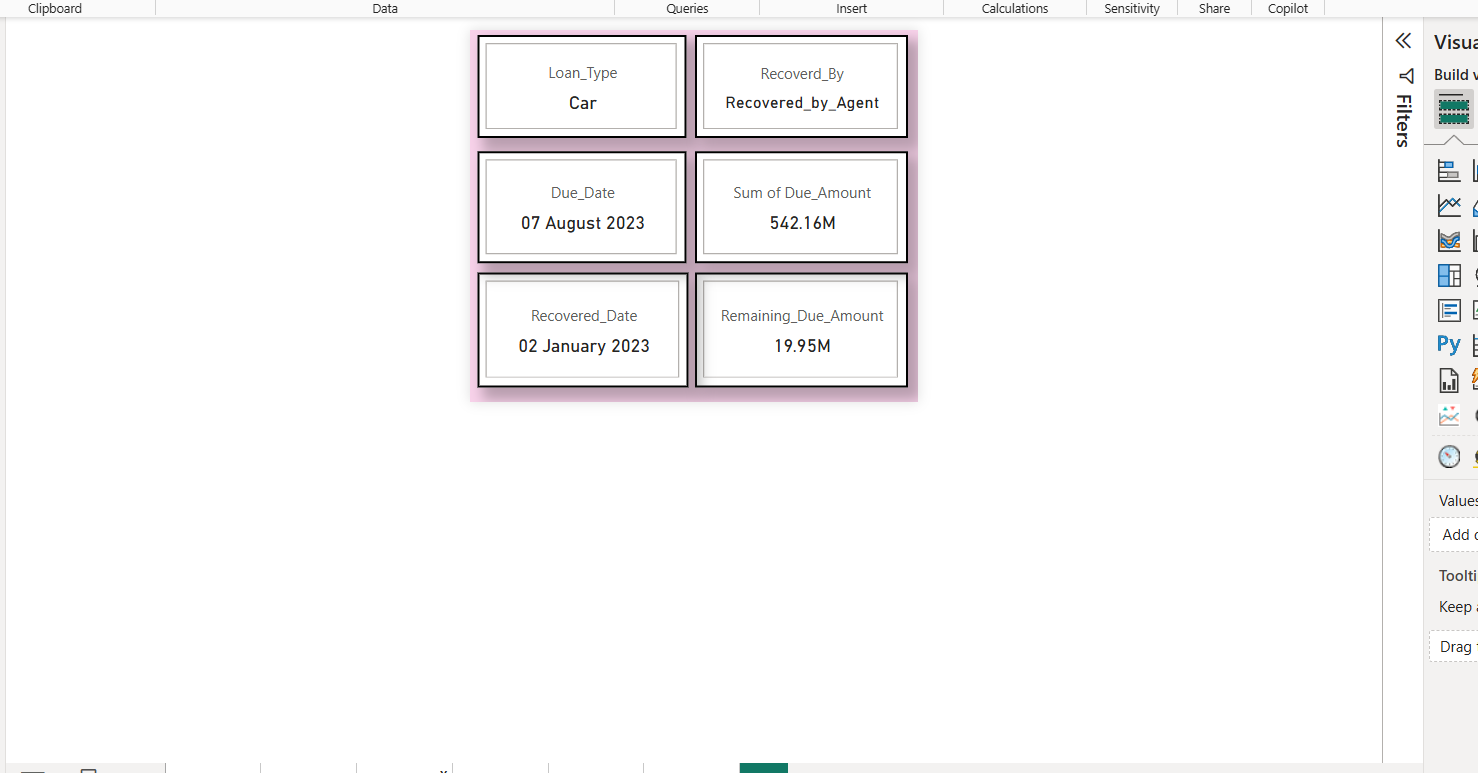

What the dashboard file says about the page in this screenshot:
{"tool":"powerbi","page":{"name":"tooltip","canvas":[358,298],"ordinal":2},"visuals":[{"type":"cardVisual","fields":{"Data":["Sum(Bank_Loan_Recovery_Data_2000_AI_Enhanced.Remaining_Due_Amount)"]},"box":[180,194,170,92],"z":1000},{"type":"cardVisual","fields":{"Data":["Min(Bank_Loan_Recovery_Data_2000_AI_Enhanced.Loan_Type)"]},"box":[6,4,167,83],"z":2000},{"type":"cardVisual","fields":{"Data":["Min(Bank_Loan_Recovery_Data_2000_AI_Enhanced.Recovered_Date)"]},"box":[6,194,169,92],"z":3000},{"type":"cardVisual","fields":{"Data":["Min(Bank_Loan_Recovery_Data_2000_AI_Enhanced.Due_Date)"]},"box":[6,97,167,90],"z":4000},{"type":"cardVisual","fields":{"Data":["Min(Bank_Loan_Recovery_Data_2000_AI_Enhanced.Recoverd_By)"]},"box":[180,4,170,83],"z":5000},{"type":"cardVisual","fields":{"Data":["Sum(Bank_Loan_Recovery_Data_2000_AI_Enhanced.Due_Amount)"]},"box":[180,97,170,90],"z":6000}]}

Visuals, with their boxes on the page's 358x298 design canvas (x1, y1, x2, y2). These are canvas units, not pixel positions in the 1478x773 screenshot, which may show the page scaled, cropped or inside an application window:
cardVisual - Sum(Bank_Loan_Recovery_Data_2000_AI_Enhanced.Remaining_Due_Amount): (180, 194, 350, 286)
cardVisual - Min(Bank_Loan_Recovery_Data_2000_AI_Enhanced.Loan_Type): (6, 4, 173, 87)
cardVisual - Min(Bank_Loan_Recovery_Data_2000_AI_Enhanced.Recovered_Date): (6, 194, 175, 286)
cardVisual - Min(Bank_Loan_Recovery_Data_2000_AI_Enhanced.Due_Date): (6, 97, 173, 187)
cardVisual - Min(Bank_Loan_Recovery_Data_2000_AI_Enhanced.Recoverd_By): (180, 4, 350, 87)
cardVisual - Sum(Bank_Loan_Recovery_Data_2000_AI_Enhanced.Due_Amount): (180, 97, 350, 187)
